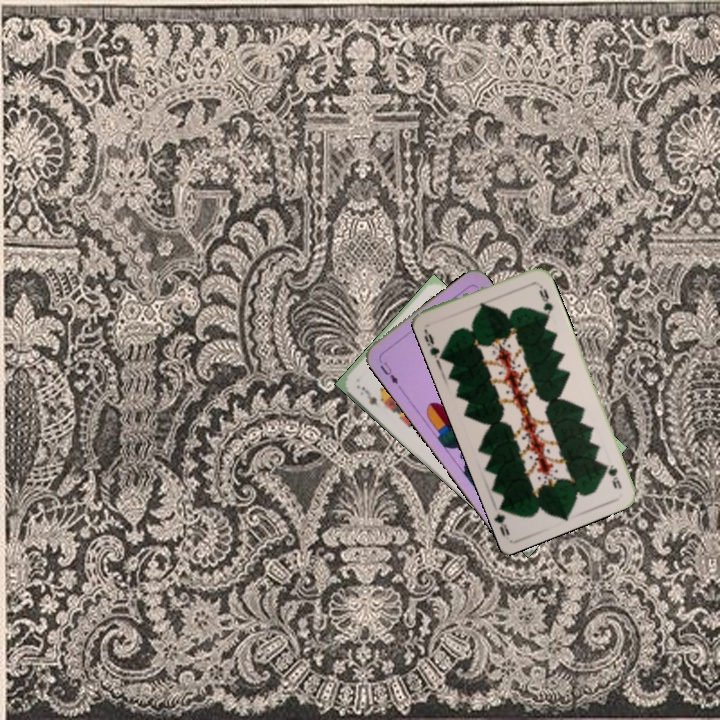EU: (376, 358, 403, 390)
G9: (420, 325, 446, 363), (600, 460, 624, 491)
S9: (357, 382, 380, 408)
